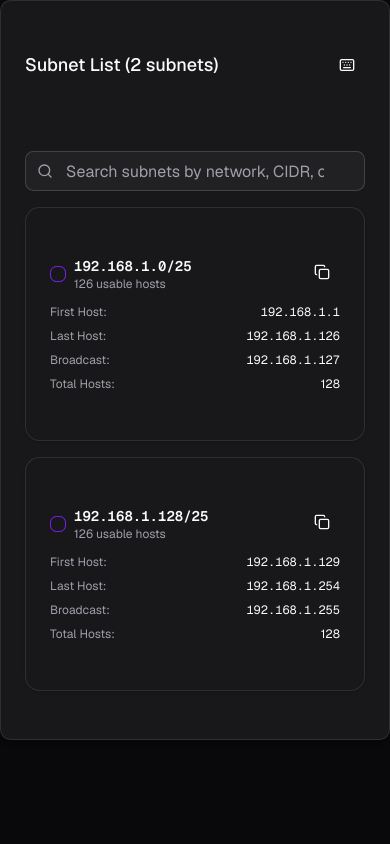
SubnetList › shows success feedback after copying subnet
Click the button titled "Copy subnet information" in the row of "192.168.1.0" at (322, 272), box [304,256,340,288]
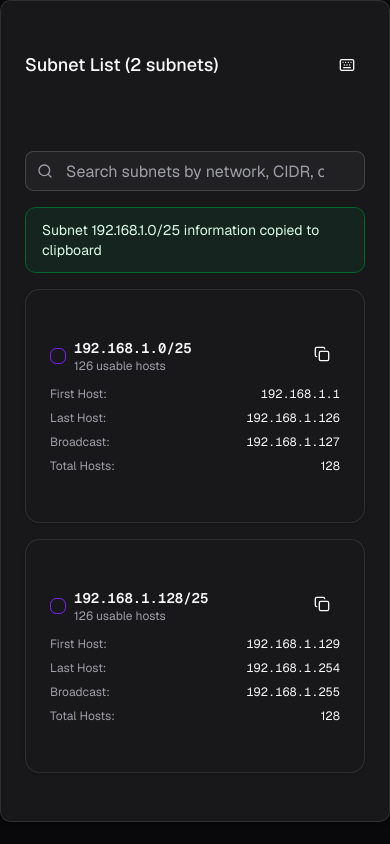
Now the text "Subnet 192.168.1.0/25 information copied to clipboard" is shown, box [42,220,348,260]
